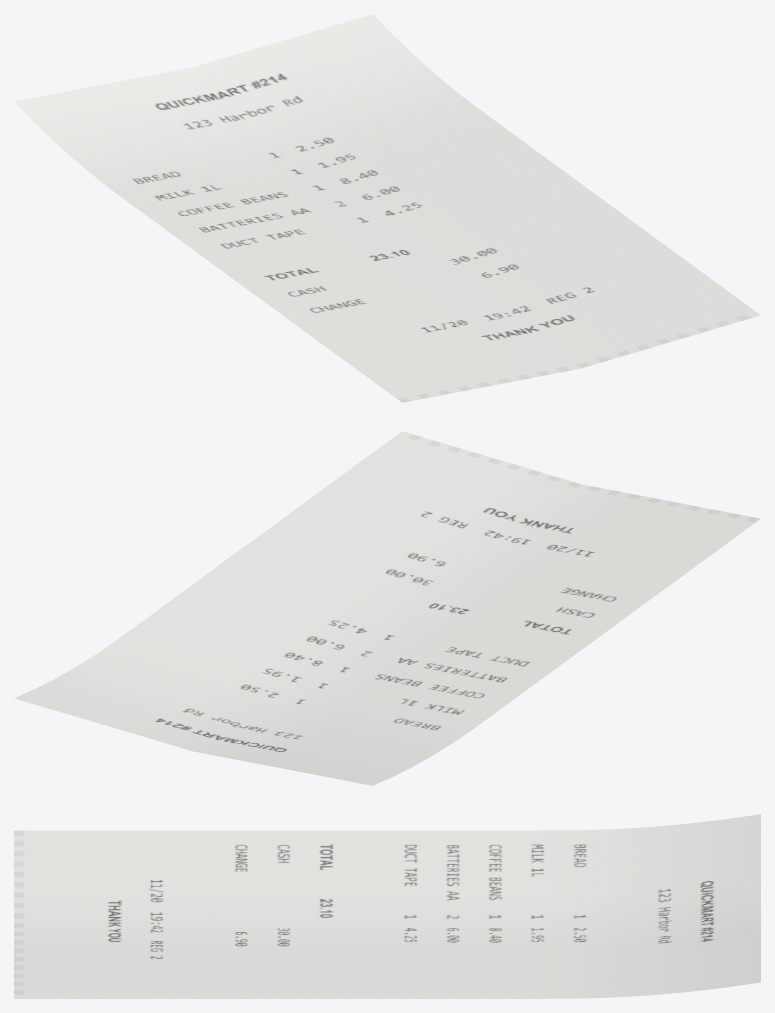
The model's file is receipt.glb.
The picture shows the model from 3 angles, top to bottom: view 1: azimuth 30°, elevation 25°; view 2: azimuth 150°, elevation 25°; view 3: azimuth 270°, elevation 25°; orthographic projection. The views are drawn at different scales.
Visible parts, largest first — view 1: receipt; view 2: receipt; view 3: receipt.
Boxes of the visible parts, x1,y1,x2,y2 form: receipt: (14,14,760,402); receipt: (14,431,760,785); receipt: (14,814,760,998).
Bounding box in the file's own units: 0.08 × 0.00563 × 0.15.
Materials: 1 (1 with a texture image).
